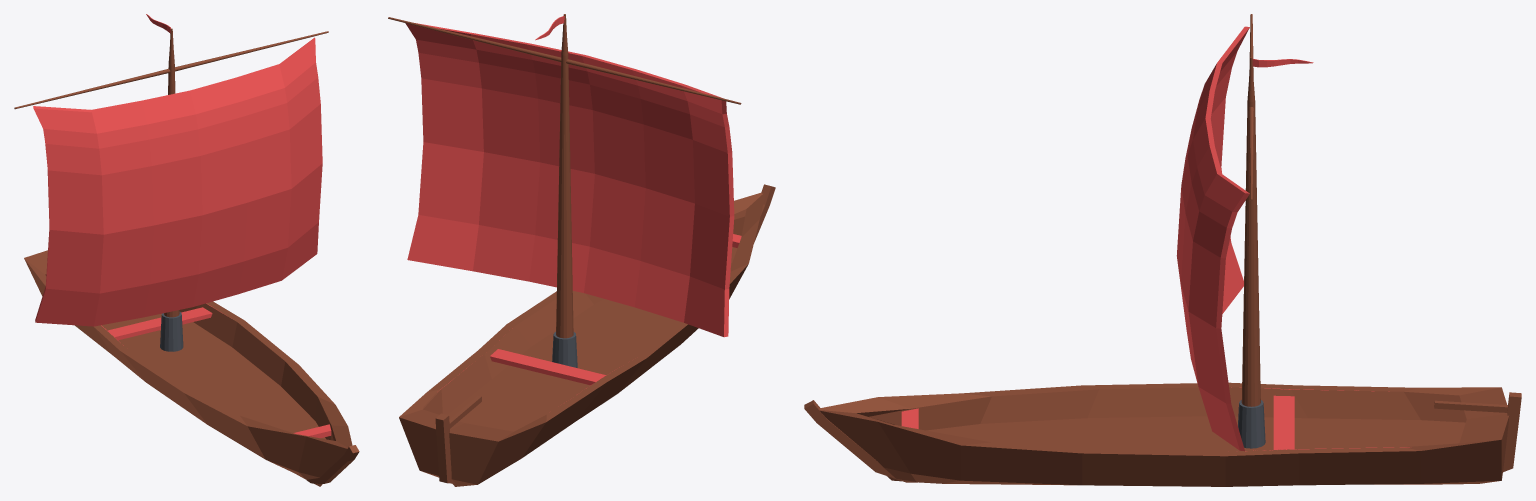
Rendered from Red Boat.fbx.
The picture shows the model from 3 angles, left to right: view 1: azimuth 30°, elevation 25°; view 2: azimuth 150°, elevation 25°; view 3: azimuth 270°, elevation 25°; orthographic projection. The views are drawn at different scales.
Parts seen in each view (by area): view 1: Kreis; view 2: Kreis; view 3: Kreis.
Boxes of the visible parts, <box> form: Kreis: <box>14,14,359,486</box>; Kreis: <box>388,14,775,486</box>; Kreis: <box>804,14,1521,486</box>.
Bounding box in the file's own units: 1400 × 1490 × 2291.
